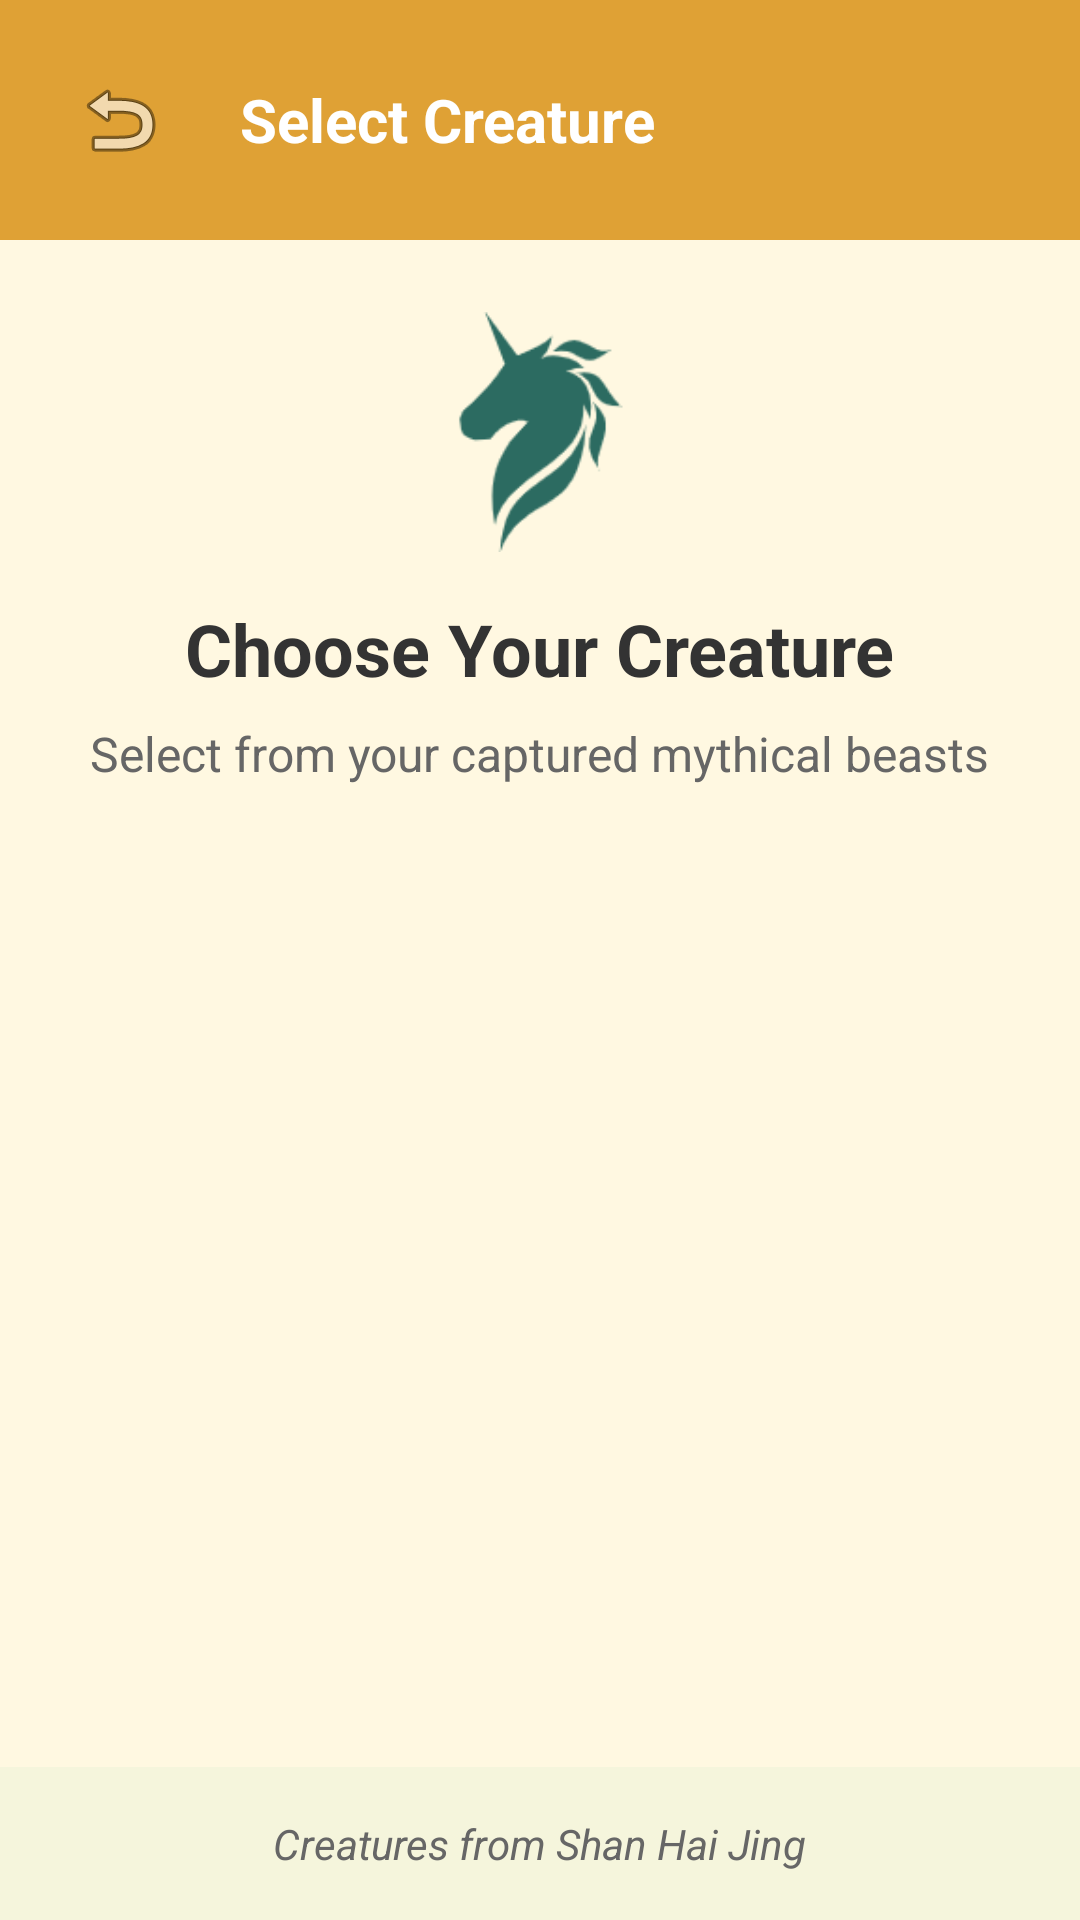

Locate icon controls on the screen. Image size 1080 x 1920, boxes as (x1,y1,x2,y2).
back: (87,89,156,152)
shenshou: (459,312,622,552)
